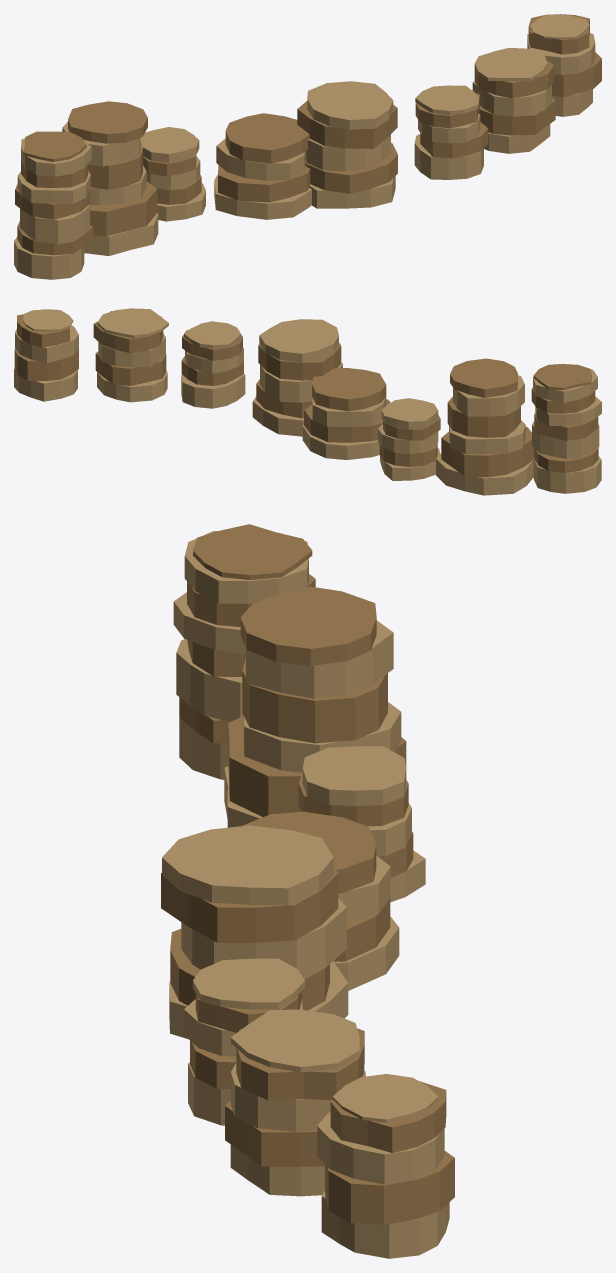
File: MesasBack.fbx
3 views of the same model, one above another, from view 1: azimuth 30°, elevation 25°; view 2: azimuth 150°, elevation 25°; view 3: azimuth 270°, elevation 25° (orthographic). The views are drawn at different scales.
Visible parts, largest first — view 1: MesaBack0_0.001; view 2: MesaBack0_0.001; view 3: MesaBack0_0.001.
Part boxes in pixels (x1,y1,x2,y2): MesaBack0_0.001: (14,14,601,279); MesaBack0_0.001: (14,308,601,495); MesaBack0_0.001: (161,524,454,1258).
Size of the model in its own units: 46903 by 8596 by 10931.
